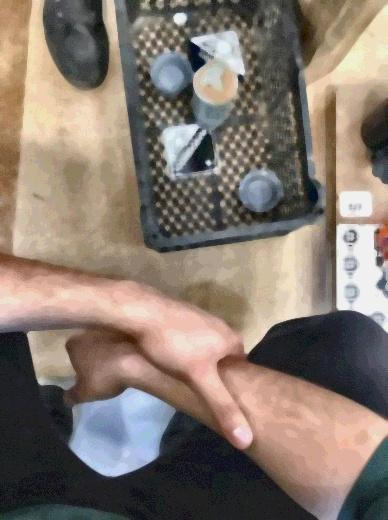corrosive: (161, 117, 219, 180), (189, 31, 246, 81)
